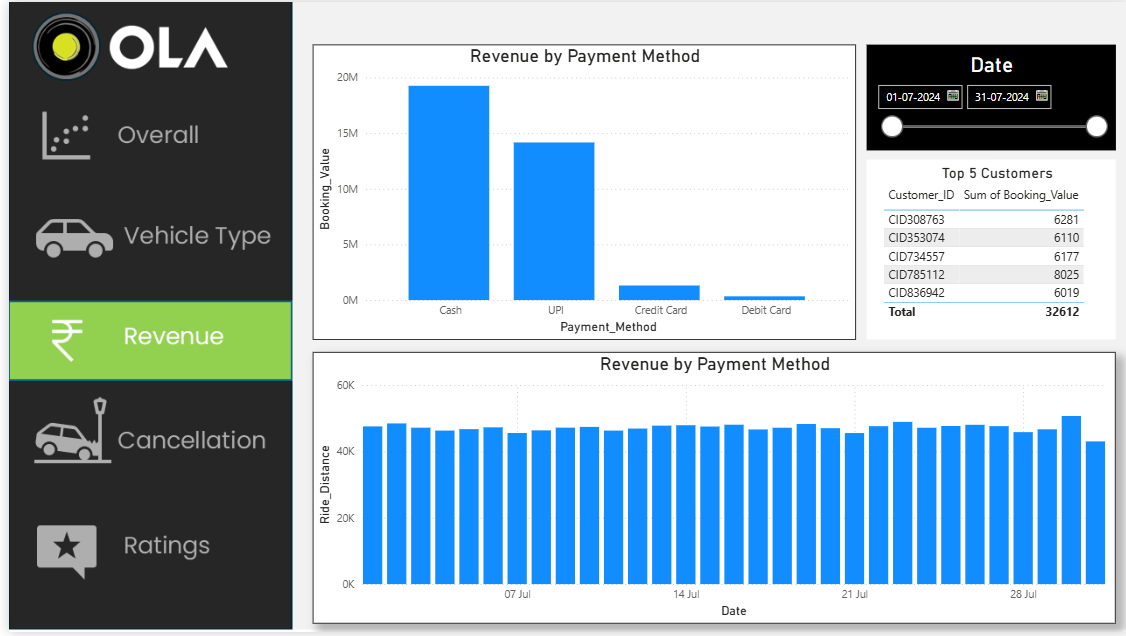

The page's visual inventory and layout, read from the dashboard file:
{"tool":"powerbi","page":{"name":"Revenue","canvas":[1280,720],"ordinal":2},"visuals":[{"type":"actionButton","box":[0,222,323.3,86.9],"z":0},{"type":"actionButton","box":[1.2,445.9,322.4,96.5],"z":1000},{"type":"actionButton","box":[0,580,322.4,96.5],"z":2000},{"type":"actionButton","box":[1.2,112.5,322.5,87.5],"z":3000},{"type":"columnChart","title":"Revenue by Payment Method","fields":{"Y":["Sum(July.Booking_Value)"],"Category":["July.Payment_Method"]},"box":[347.8,49.3,620.9,337.3],"z":4000},{"type":"columnChart","title":"Revenue by Payment Method","fields":{"Category":["July.Date"],"Y":["Sum(July.Ride_Distance)"]},"box":[347.8,400,917.9,310.4],"z":5000},{"type":"slicer","title":"Date","fields":{"Values":["July.Date"]},"box":[980.6,49.3,285.1,120.9],"z":6000},{"type":"tableEx","title":"Top 5 Customers","fields":{"Values":["July.Customer_ID","Sum(July.Booking_Value)"]},"box":[980.6,180.6,285.1,206],"z":7000}]}

Visuals, with their boxes in screenshot pixels (x1, y1, x2, y2), scaled from the page's 1280x720 canvas onto the 1126x636 screenshot:
actionButton: 0, 196, 284, 273
actionButton: 1, 394, 285, 479
actionButton: 0, 512, 284, 598
actionButton: 1, 99, 285, 177
"Revenue by Payment Method" columnChart: 306, 44, 852, 341
"Revenue by Payment Method" columnChart: 306, 353, 1113, 628
"Date" slicer: 863, 44, 1113, 150
"Top 5 Customers" tableEx: 863, 160, 1113, 341
